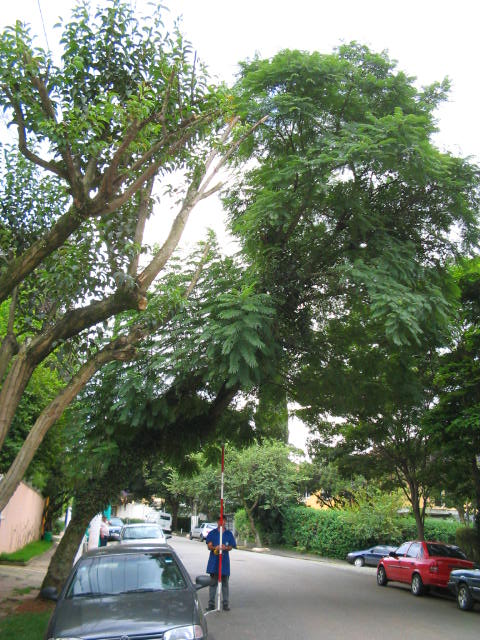crown: (43, 44, 471, 456)
stem: (41, 492, 110, 601)
stick: (213, 445, 229, 612)
tree: (39, 43, 473, 602)
